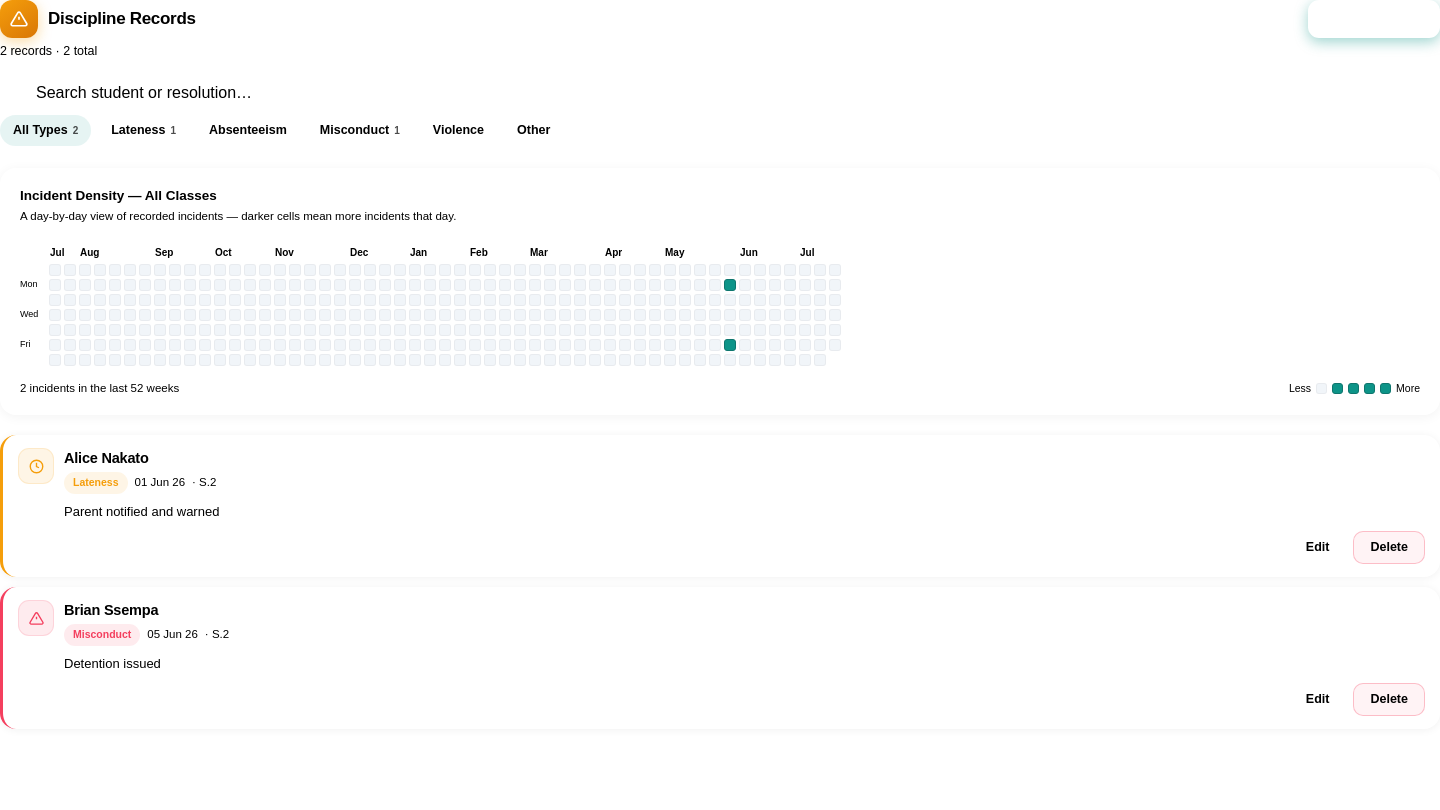
Test: DisciplinePage › clicking Edit on a record opens the edit modal
The width and height of the screenshot is (1440, 810).
Click the 1st button "Edit" at (1318, 548), box [1290, 531, 1346, 564]
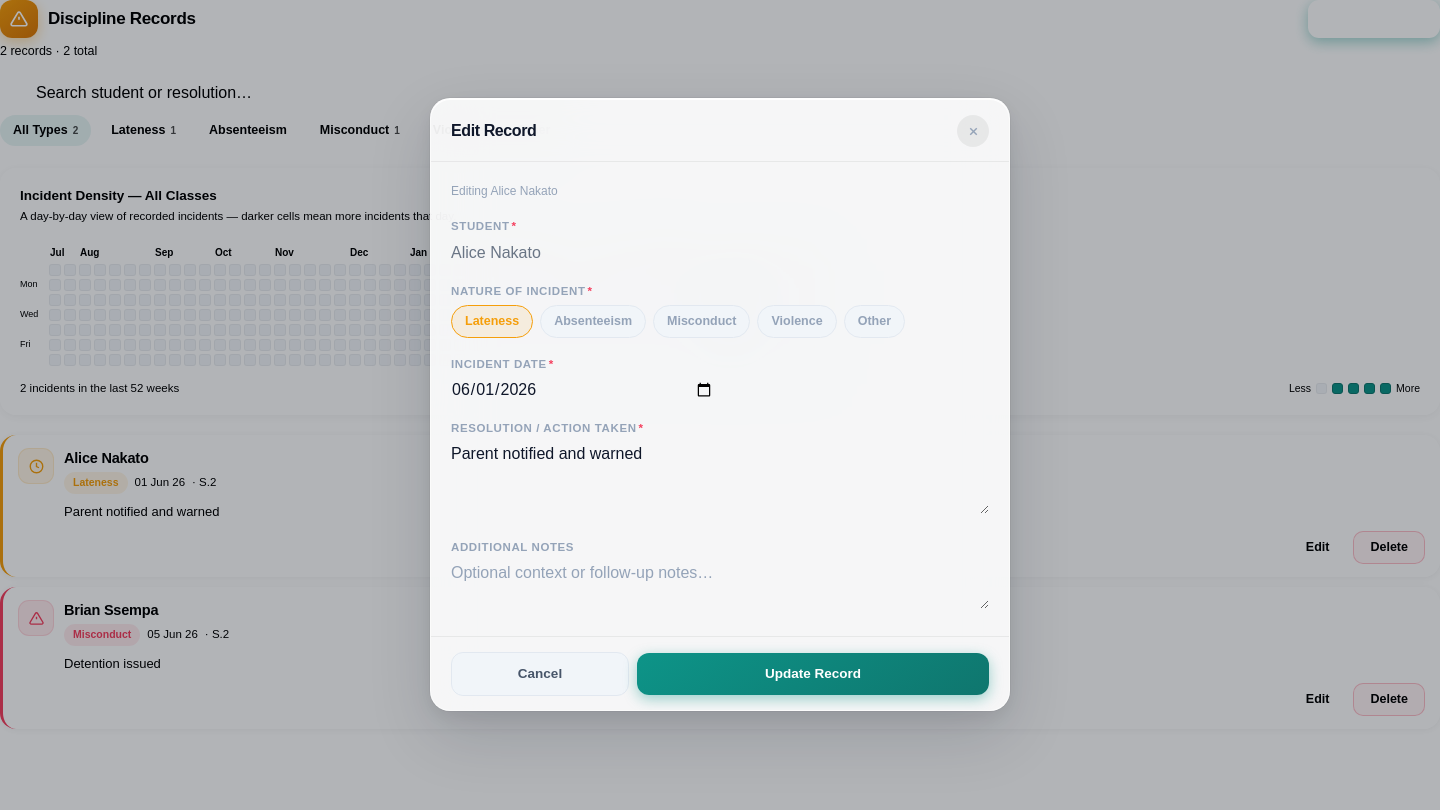
Now the text "Edit Record" is shown, box [451, 122, 536, 141]
